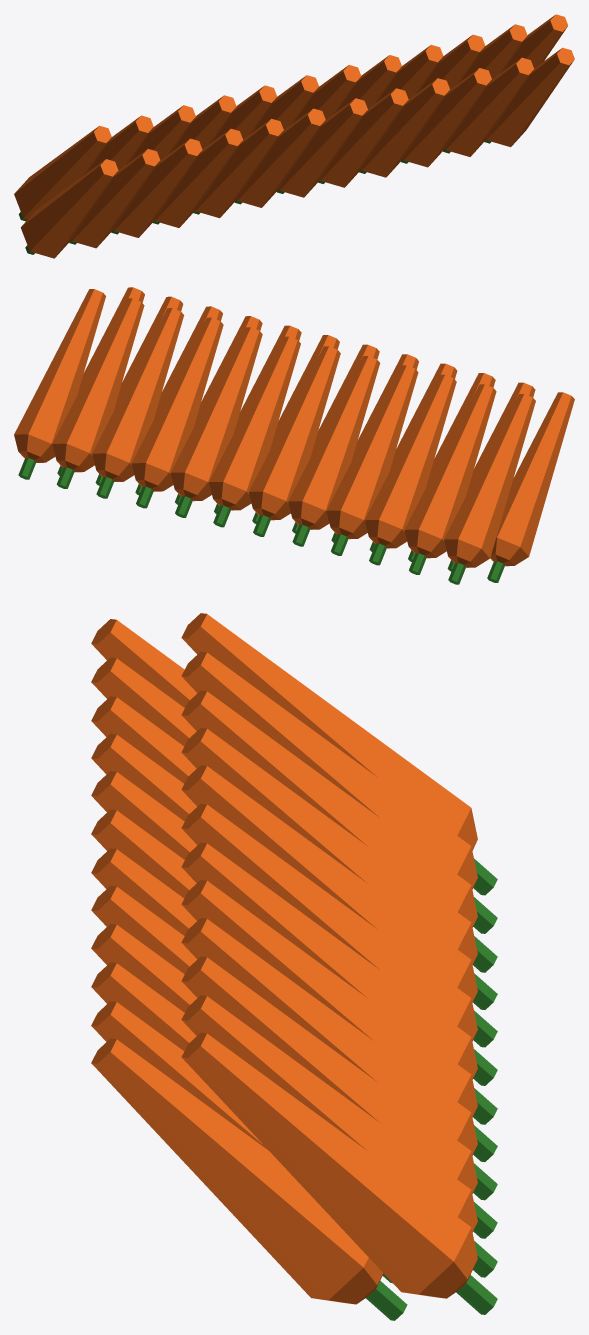
File: carrotStack.fbx
The picture shows the model from 3 angles, top to bottom: view 1: azimuth 30°, elevation 25°; view 2: azimuth 150°, elevation 25°; view 3: azimuth 270°, elevation 25°; orthographic projection. The views are drawn at different scales.
Visible parts, largest first — view 1: Cylinder.006; view 2: Cylinder.006; view 3: Cylinder.006.
Boxes of the visible parts, box(x1,y1,x2,y2) form: Cylinder.006: box(14, 14, 574, 258); Cylinder.006: box(14, 287, 574, 584); Cylinder.006: box(91, 613, 497, 1320).
Size of the model in its own units: 1625 by 486 by 592.
